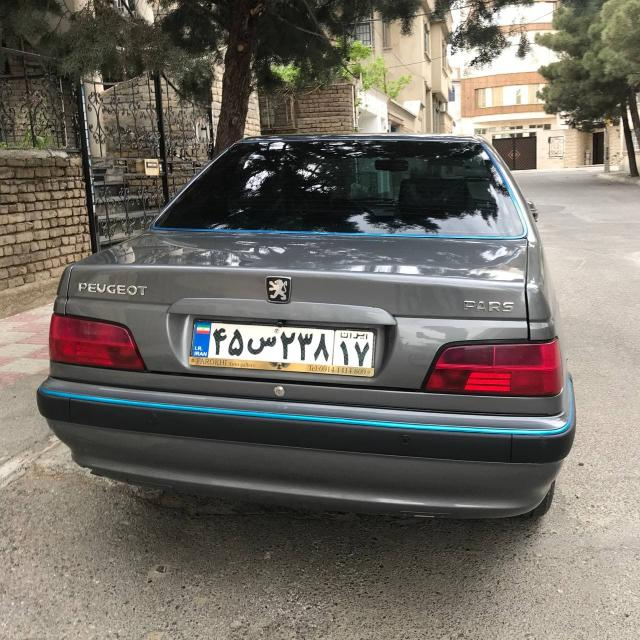Plates: (191, 322, 374, 367)
